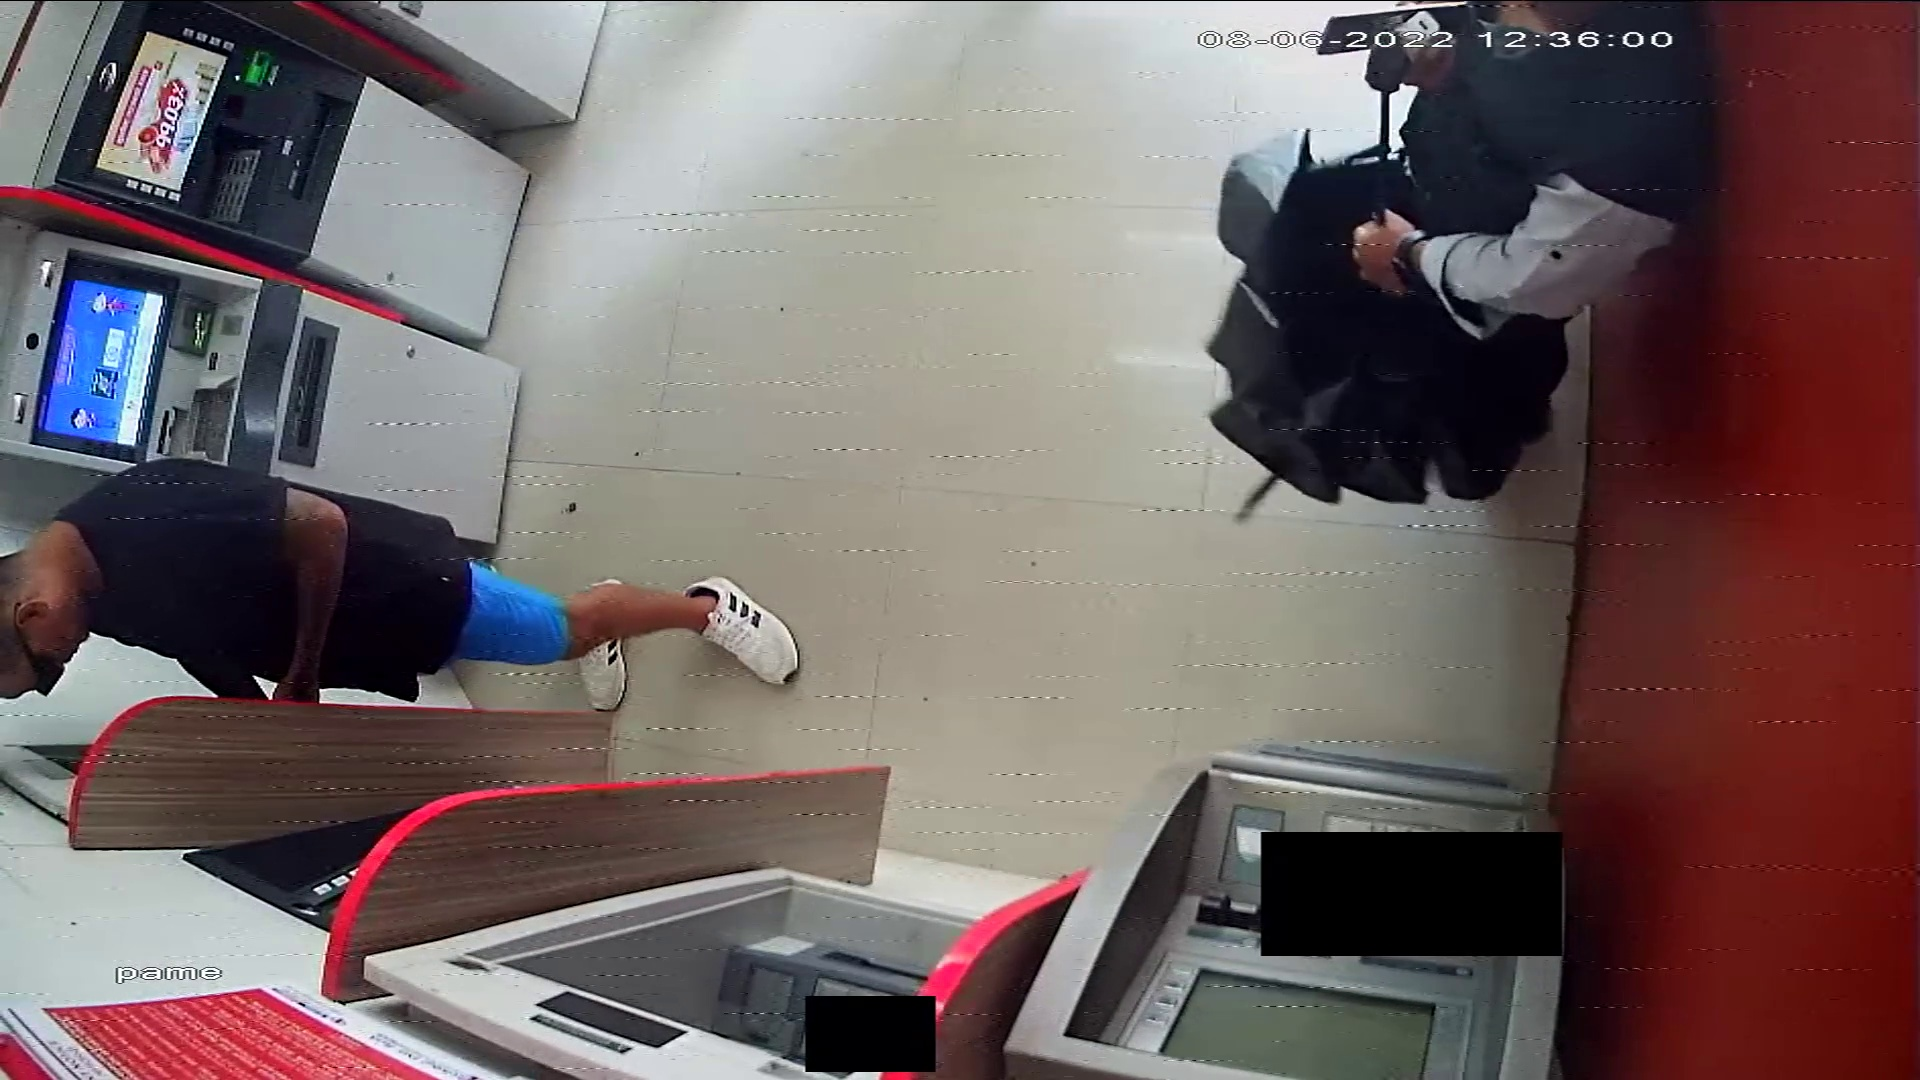person: (1, 458, 803, 710), (1347, 1, 1703, 342)
